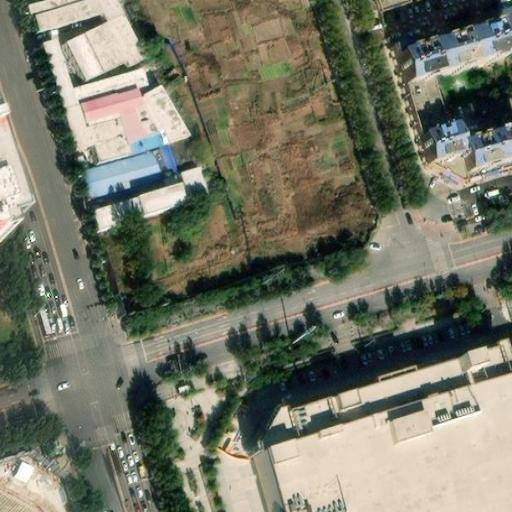building: (245, 343, 512, 512), (29, 0, 190, 171), (393, 21, 508, 86), (79, 145, 174, 203), (135, 169, 207, 219), (0, 109, 29, 233), (460, 123, 512, 173), (0, 474, 61, 512), (405, 77, 446, 133), (419, 122, 464, 164), (92, 198, 142, 232), (429, 154, 470, 173)
